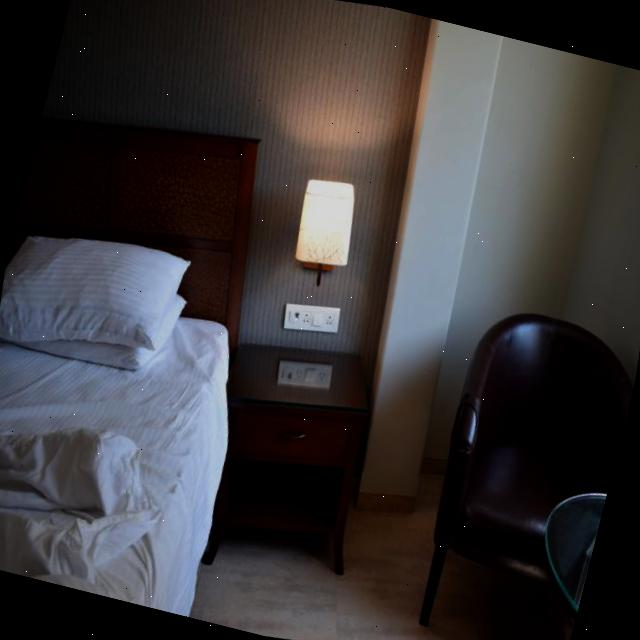Disorganized_pillow: (0, 234, 190, 368)
chair: (402, 304, 640, 640)
lamp: (279, 174, 368, 298)
mess: (0, 414, 168, 592)
messy_bed: (0, 117, 260, 616)
organized table: (176, 317, 412, 610)
